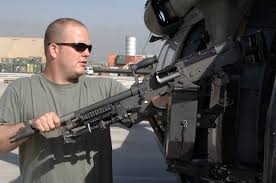gun: (8, 31, 259, 148)
